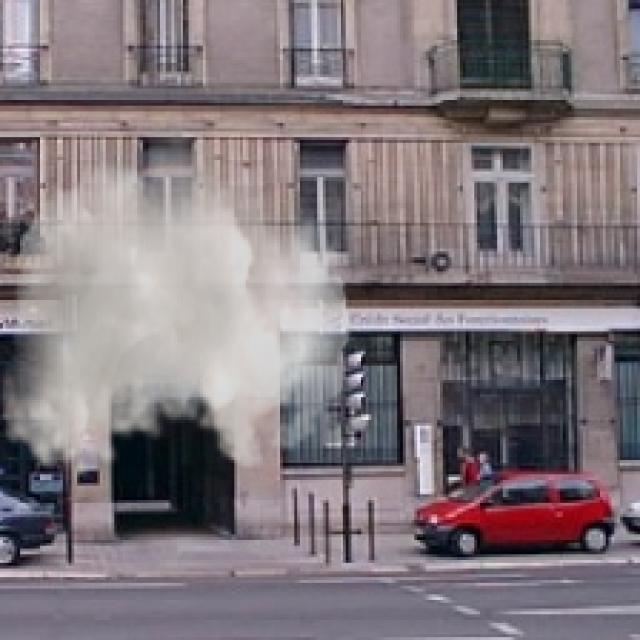Smoke: (0, 114, 352, 480)
